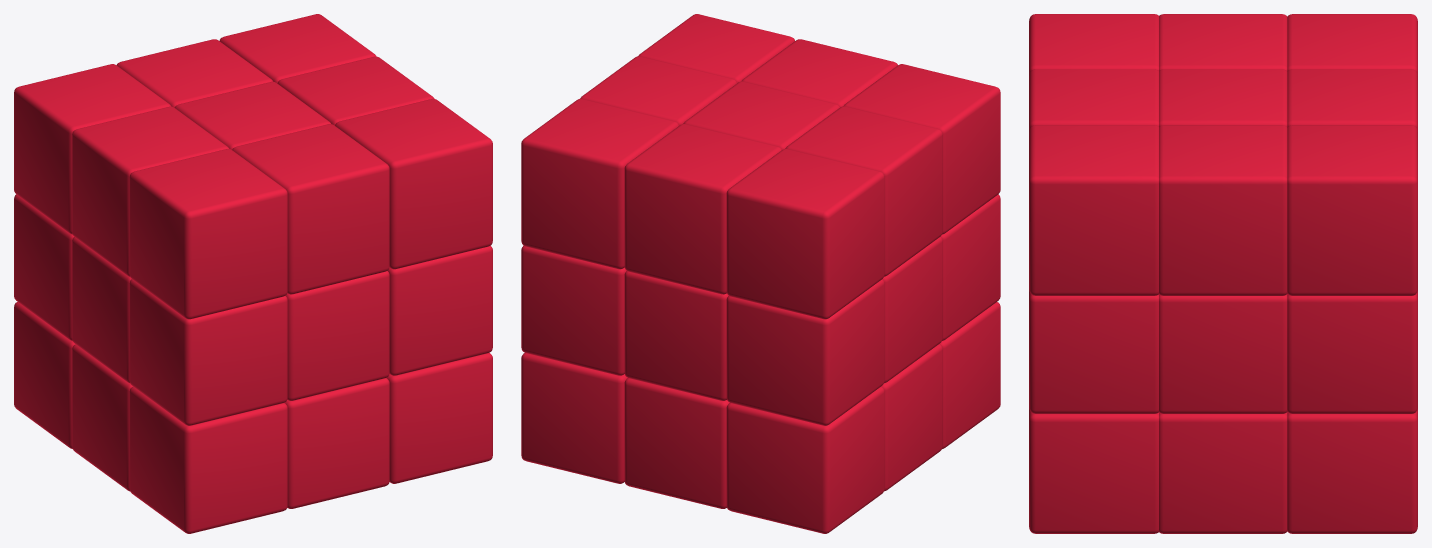
The model's file is rubixcube.glb.
3 renders of one model, left to right at view 1: azimuth 30°, elevation 25°; view 2: azimuth 150°, elevation 25°; view 3: azimuth 270°, elevation 25°, orthographic. The views are drawn at different scales.
Visible parts, largest first — view 1: Cube; view 2: Cube; view 3: Cube.
Boxes of the visible parts, x1,y1,x2,y2 form: Cube: (14,14,492,533); Cube: (521,14,1000,533); Cube: (1029,14,1417,533).
Bounding box in the file's own units: 5.98 × 5.98 × 5.89.
